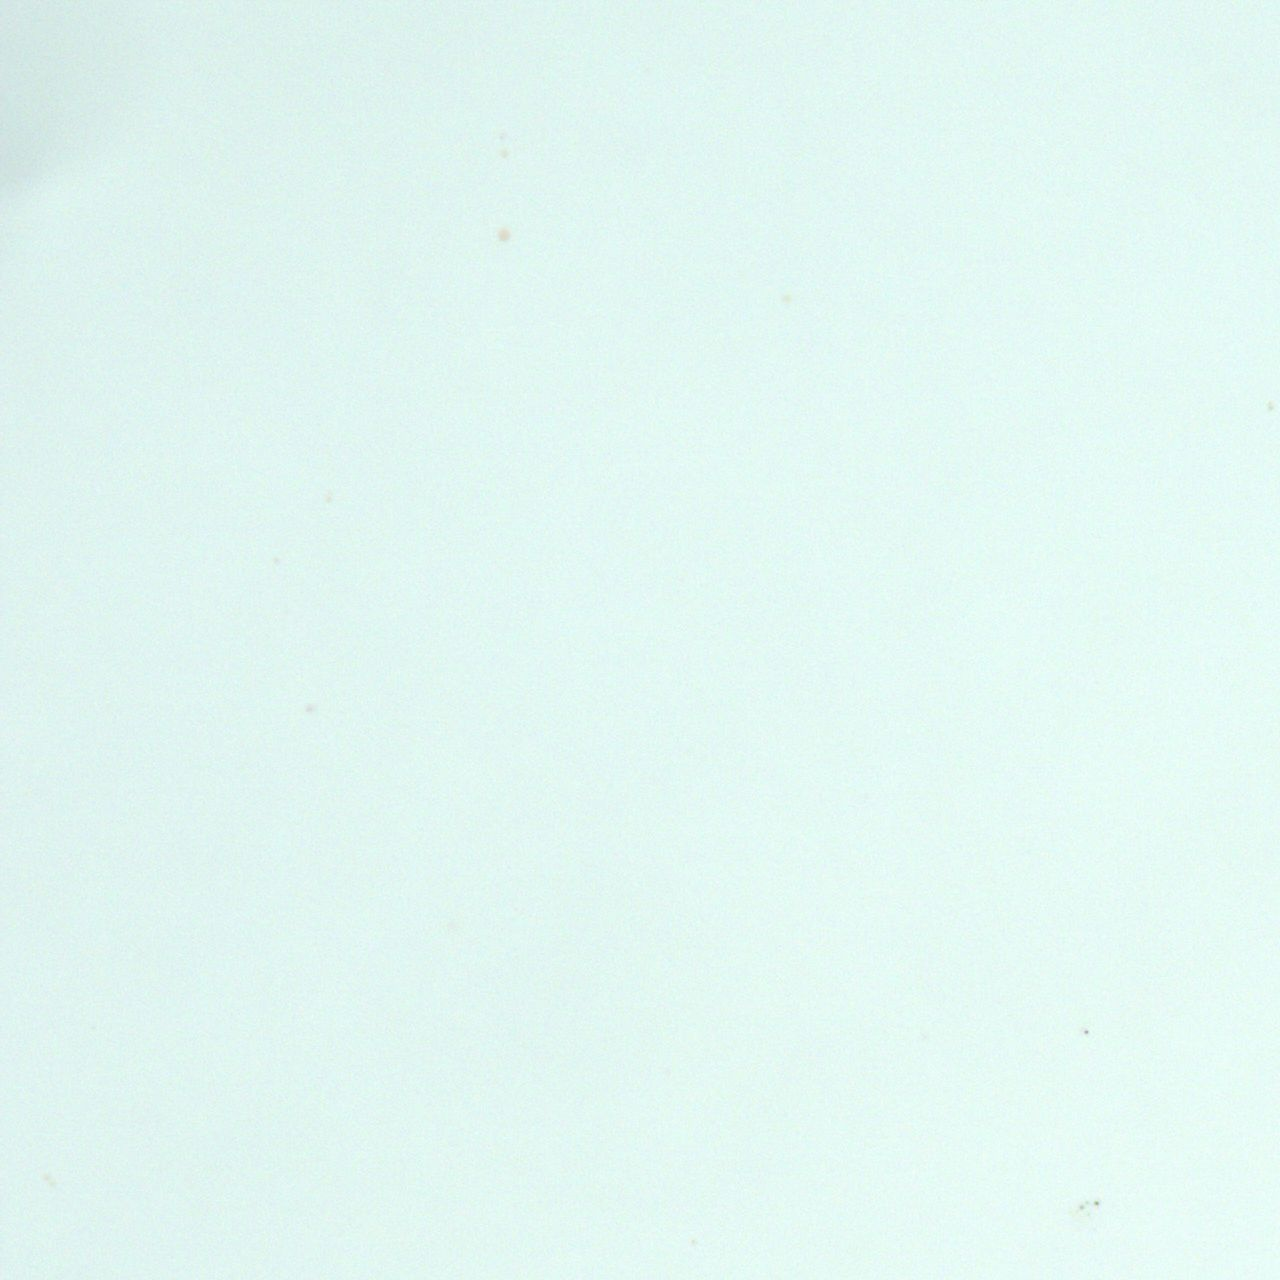dust: (1081, 1024, 1094, 1041), (1085, 1200, 1091, 1206), (1094, 1200, 1101, 1205), (1080, 1206, 1085, 1210)
